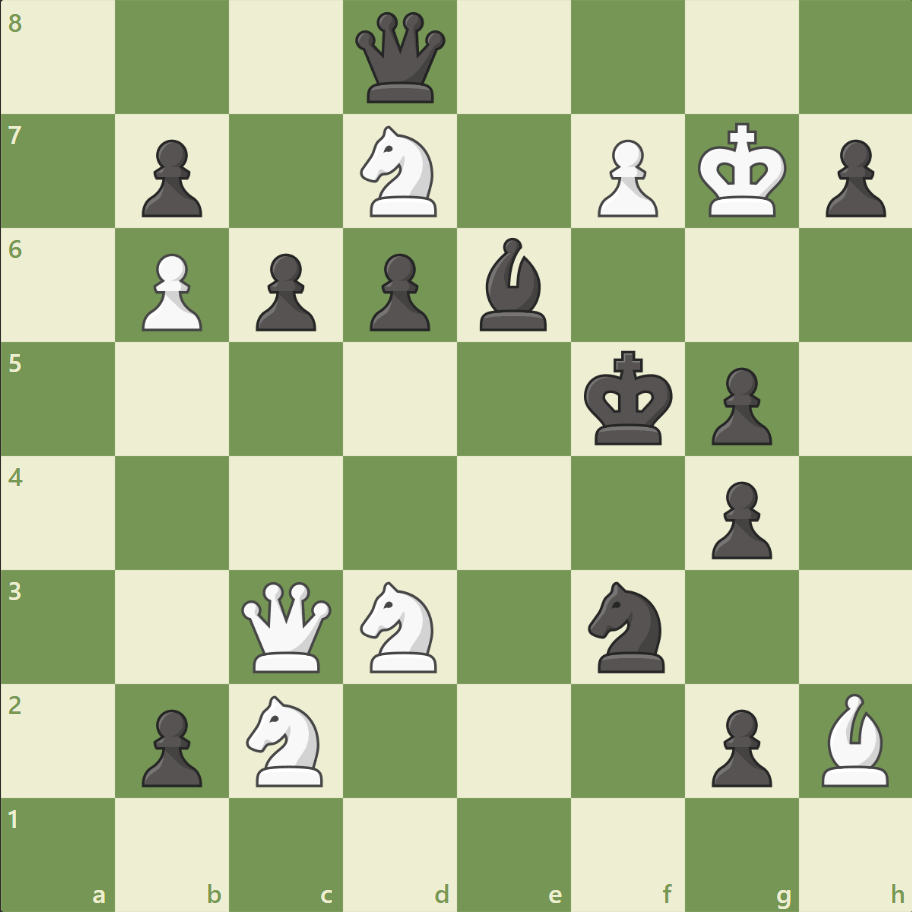B: (812, 687, 896, 790)
K: (692, 117, 792, 225)
N: (351, 121, 449, 223), (351, 575, 449, 677), (238, 688, 335, 791)
P: (133, 246, 208, 337), (588, 132, 662, 223)
Q: (237, 576, 336, 676)
b: (471, 233, 555, 336)
k: (579, 344, 679, 452)
n: (579, 575, 676, 677)
p: (133, 132, 208, 223), (247, 246, 322, 337), (701, 359, 776, 450), (701, 473, 776, 564), (133, 700, 208, 791), (701, 700, 776, 791), (815, 132, 889, 223), (361, 246, 435, 337)
q: (351, 9, 450, 108)
